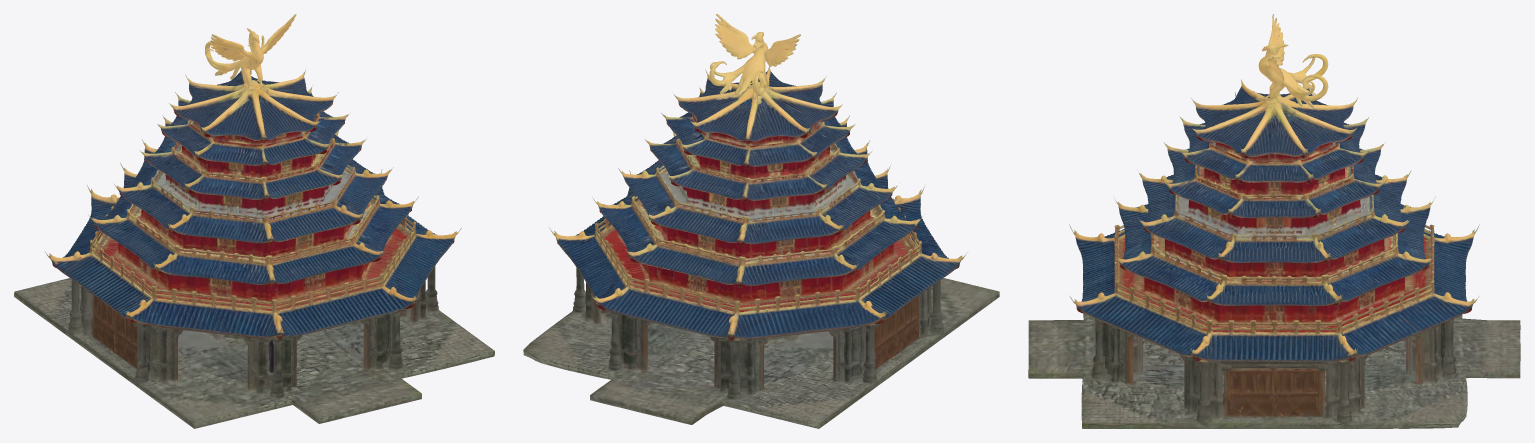
File: bq_pagoda.hd.glb
3 views of the same model, side by side, from view 1: azimuth 30°, elevation 25°; view 2: azimuth 150°, elevation 25°; view 3: azimuth 270°, elevation 25° (orthographic). The views are drawn at different scales.
Size of the model in its own units: 1.59 by 1.35 by 1.9.
Materials: 1 (1 with a texture image).
